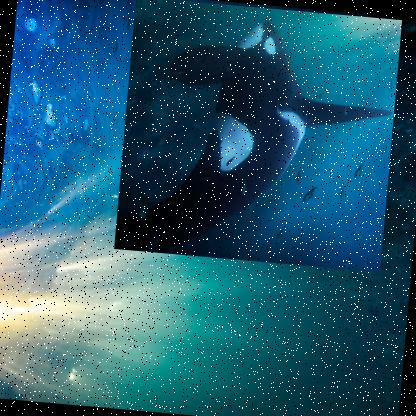killer_whale: (114, 0, 404, 271)
